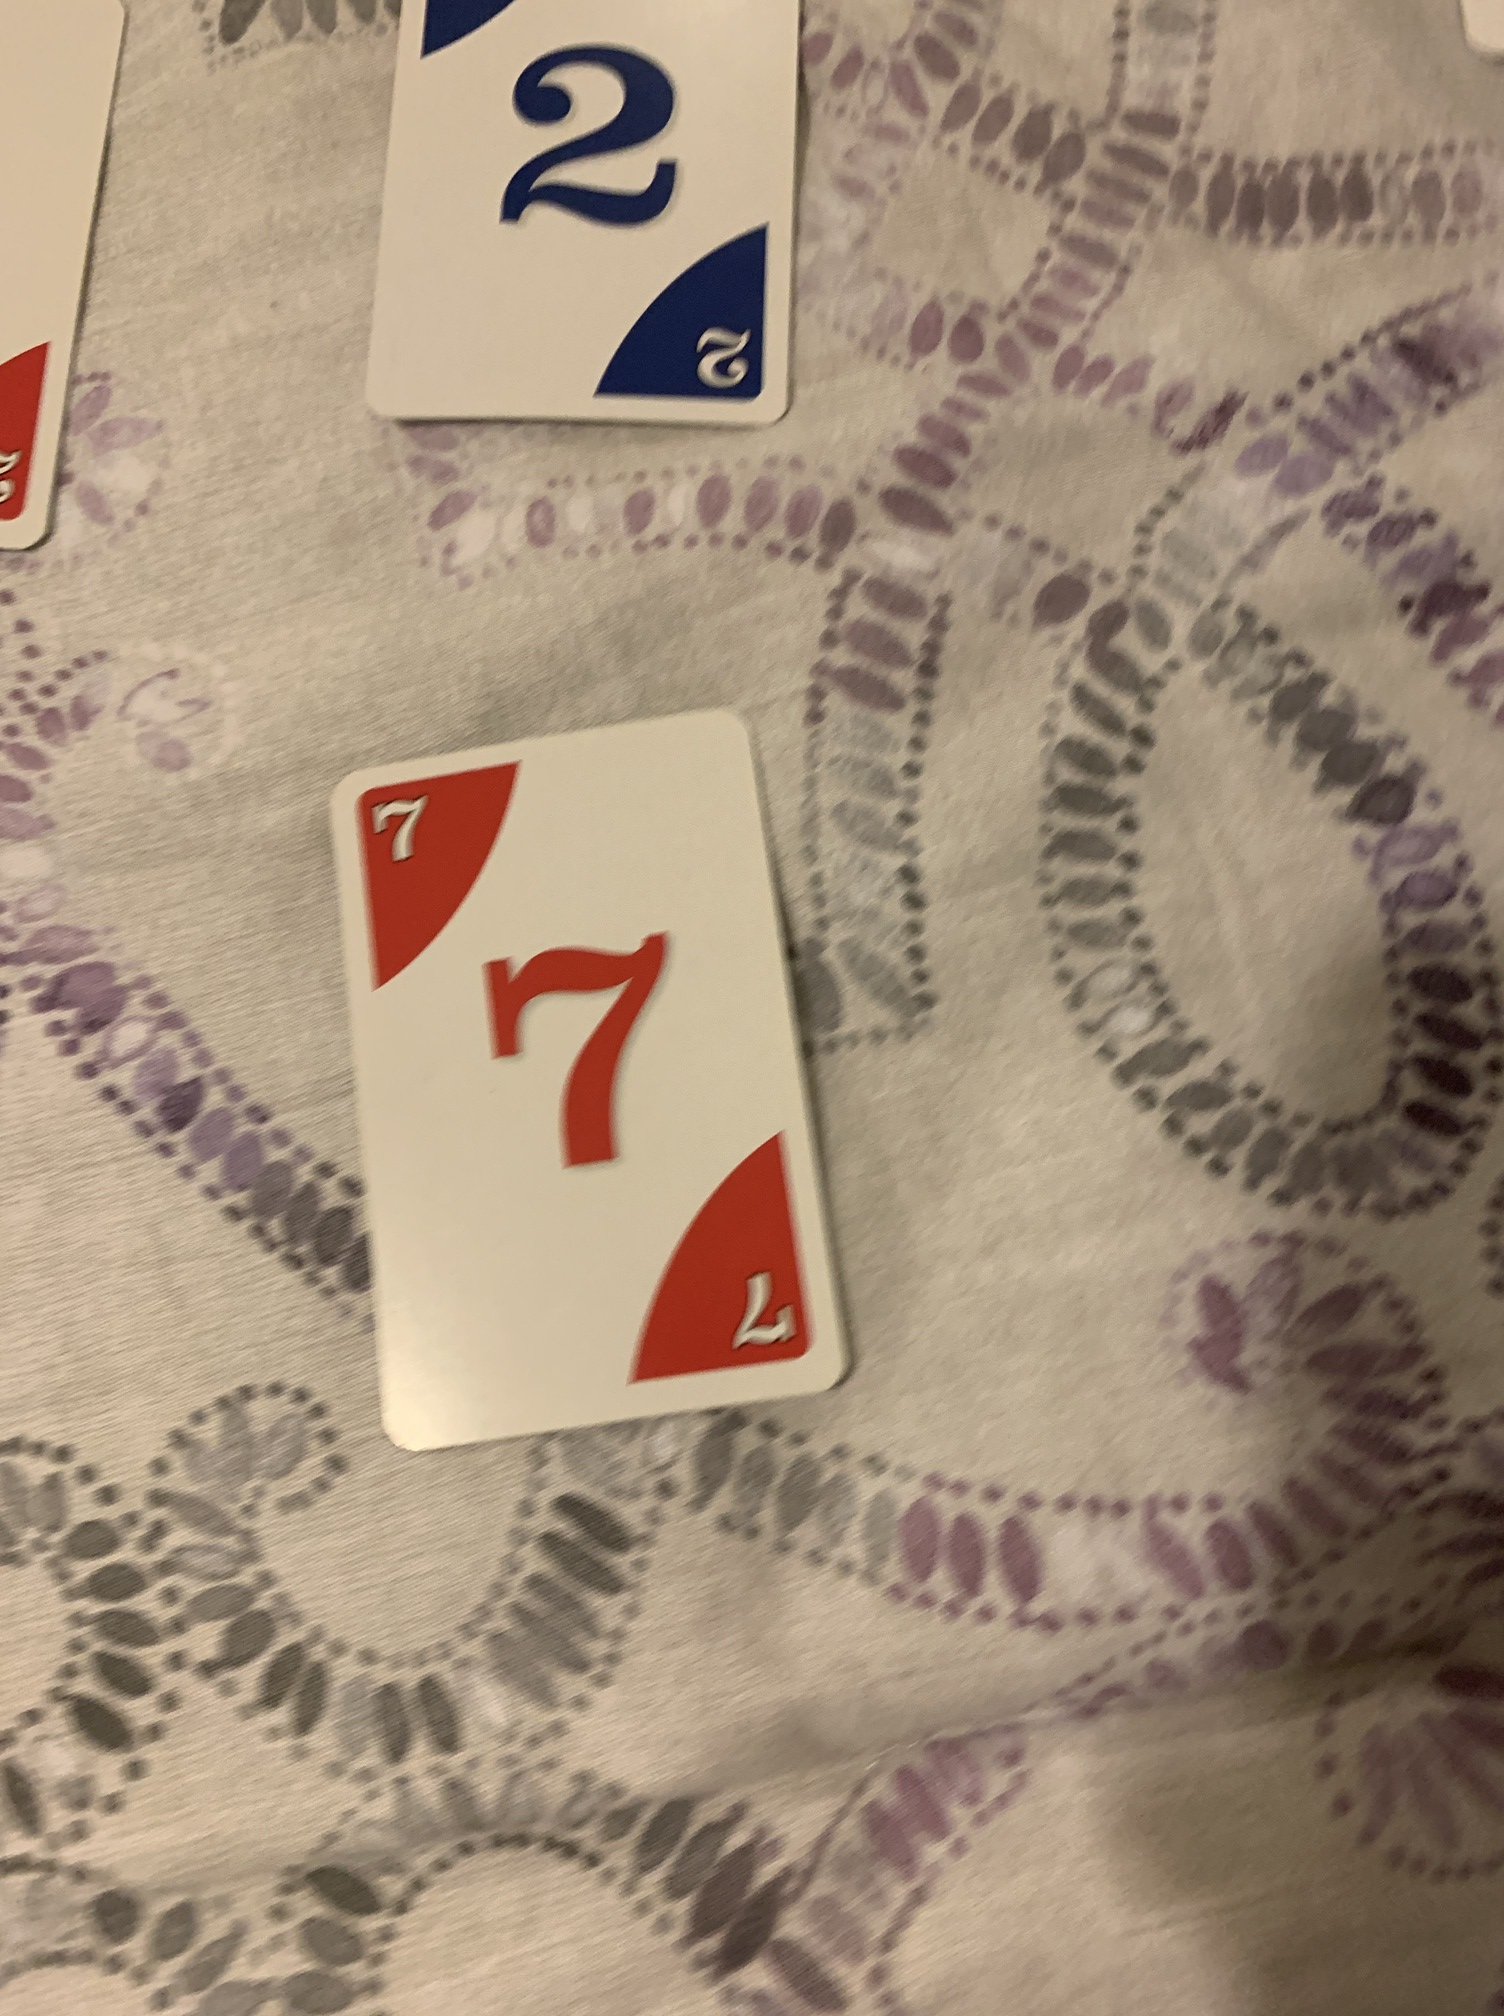seven: (318, 705, 875, 1473)
two: (357, 5, 818, 430)
